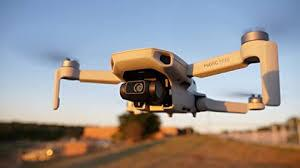drone: (23, 22, 300, 123)
